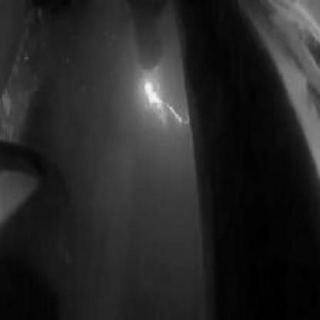Fire: (141, 80, 195, 132)
